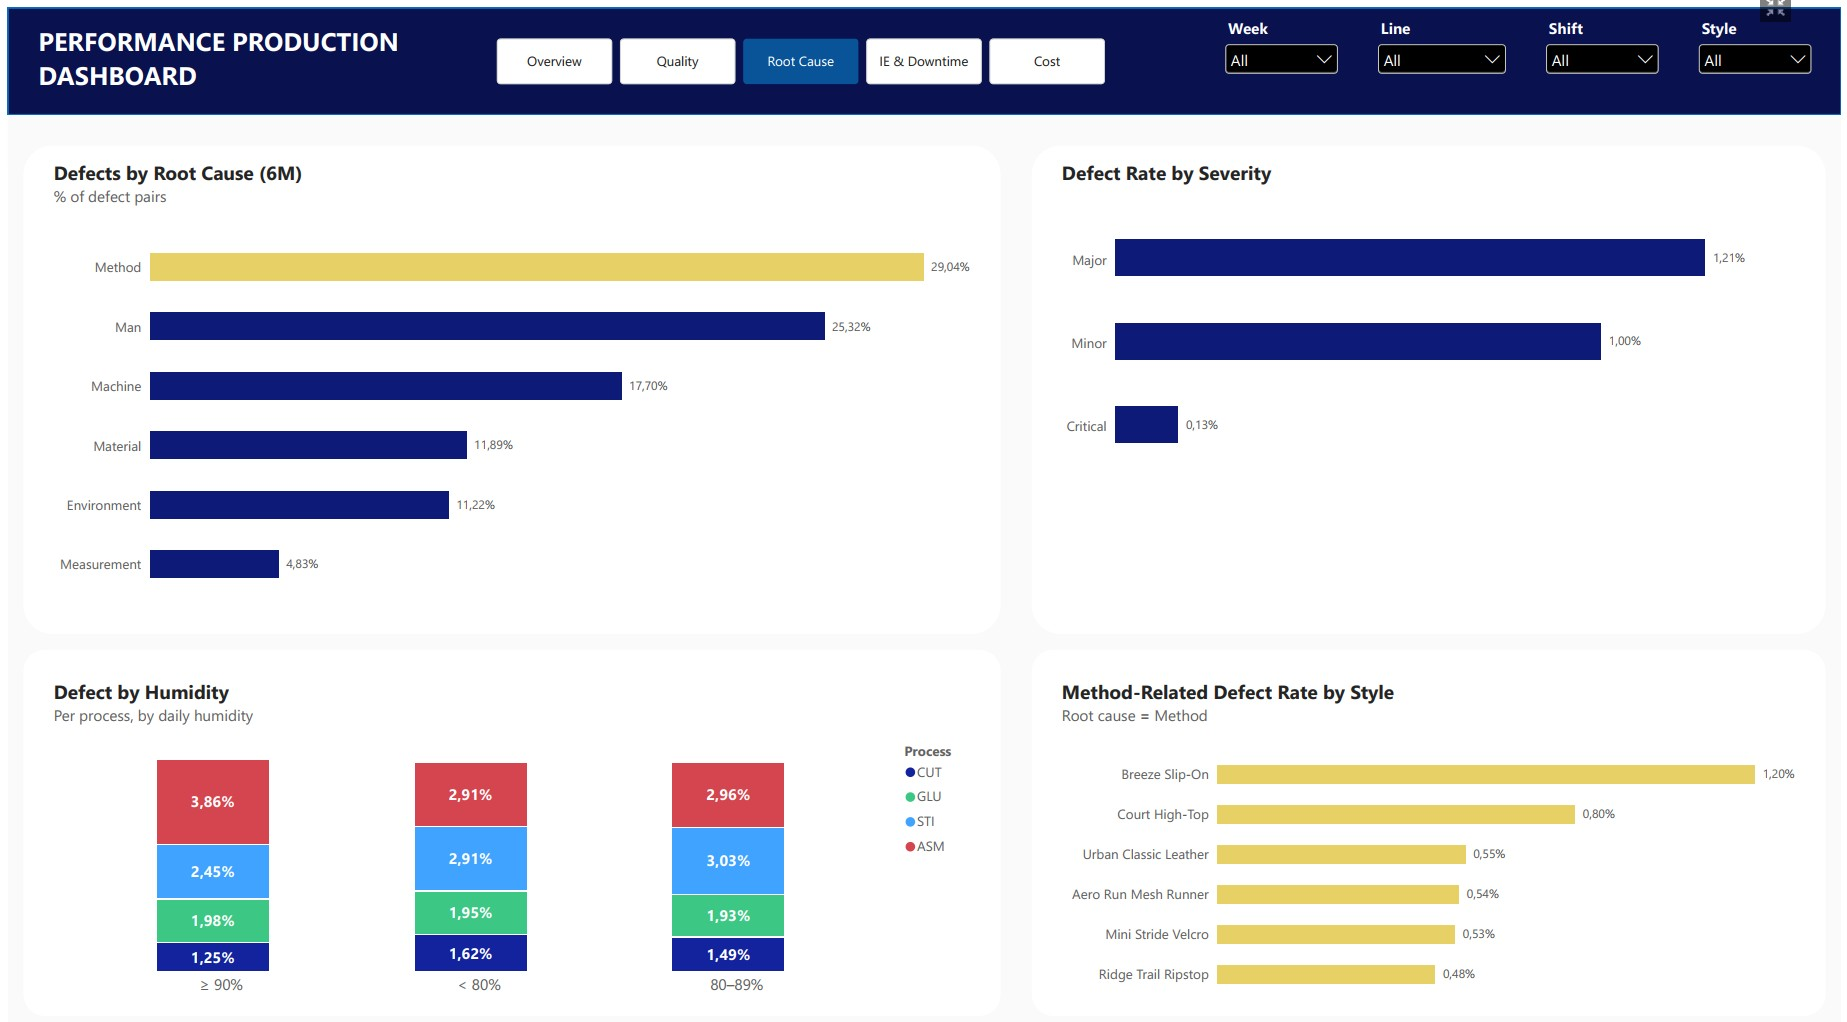

The dashboard page shown, as its layout file describes it:
{"tool":"powerbi","page":{"name":"Root Cause","canvas":[1920,1080],"ordinal":2},"visuals":[{"type":"shape","box":[0,0,1920,112],"z":0},{"type":"shape","box":[16,144,1024,512],"z":1000},{"type":"shape","box":[1072,144,832,512],"z":2000},{"type":"shape","box":[16,672,1024,384],"z":3000},{"type":"clusteredBarChart","title":"Defects by Root Cause (6M)","fields":{"Category":["Fact_Defects.Root_Cause_6M"],"Y":["_Measures.Root Cause Share"]},"box":[32,144,992,496],"z":4000},{"type":"shape","box":[1072,672,832,384],"z":5000},{"type":"clusteredBarChart","title":"Method-Related Defect Rate by Style","fields":{"Category":["Dim_Style.Style_Name"],"Y":["_Measures.Defect Rate"]},"box":[1088,688,800,368],"z":6000},{"type":"columnChart","title":"Defect by Humidity","fields":{"Category":["Dim_Calendar.Humidity Group"],"Series":["Dim_Process.Process_ID"],"Y":["_Measures.Defect Rate"]},"box":[32,688,992,368],"z":7000},{"type":"clusteredBarChart","title":"Defect Rate by Severity","fields":{"Category":["Dim_Defect.Severity"],"Y":["_Measures.Defect Rate"]},"box":[1088,144,800,368],"z":8000},{"type":"textbox","box":[32,16,480,80],"z":9000},{"type":"pageNavigator","box":[512,32,640,48],"z":10000},{"type":"slicer","fields":{"Values":["Dim_Calendar.ISO_Week"]},"box":[1270.4,9.6,128,80],"z":11000},{"type":"slicer","fields":{"Values":["Dim_Line.Line_Name"]},"box":[1430.4,9.6,144,80],"z":12000},{"type":"slicer","fields":{"Values":["Fact_Production.Shift"]},"box":[1606.4,9.6,128,80],"z":13000},{"type":"slicer","fields":{"Values":["Fact_Production.Style_ID"]},"box":[1766.4,9.6,128,80],"z":14000}]}

Visuals, with their boxes in screenshot pixels (x1, y1, x2, y2), scaled from the page's 1920x1080 canvas onto the 1847x1022 screenshot:
shape: {"x1": 0, "y1": 0, "x2": 1846, "y2": 106}
shape: {"x1": 15, "y1": 136, "x2": 1000, "y2": 621}
shape: {"x1": 1031, "y1": 136, "x2": 1832, "y2": 621}
shape: {"x1": 15, "y1": 636, "x2": 1000, "y2": 999}
"Defects by Root Cause (6M)" clusteredBarChart: {"x1": 31, "y1": 136, "x2": 985, "y2": 606}
shape: {"x1": 1031, "y1": 636, "x2": 1832, "y2": 999}
"Method-Related Defect Rate by Style" clusteredBarChart: {"x1": 1047, "y1": 651, "x2": 1816, "y2": 999}
"Defect by Humidity" columnChart: {"x1": 31, "y1": 651, "x2": 985, "y2": 999}
"Defect Rate by Severity" clusteredBarChart: {"x1": 1047, "y1": 136, "x2": 1816, "y2": 485}
textbox: {"x1": 31, "y1": 15, "x2": 493, "y2": 91}
pageNavigator: {"x1": 493, "y1": 30, "x2": 1108, "y2": 76}
slicer - Dim_Calendar.ISO_Week: {"x1": 1222, "y1": 9, "x2": 1345, "y2": 85}
slicer - Dim_Line.Line_Name: {"x1": 1376, "y1": 9, "x2": 1515, "y2": 85}
slicer - Fact_Production.Shift: {"x1": 1545, "y1": 9, "x2": 1668, "y2": 85}
slicer - Fact_Production.Style_ID: {"x1": 1699, "y1": 9, "x2": 1822, "y2": 85}
